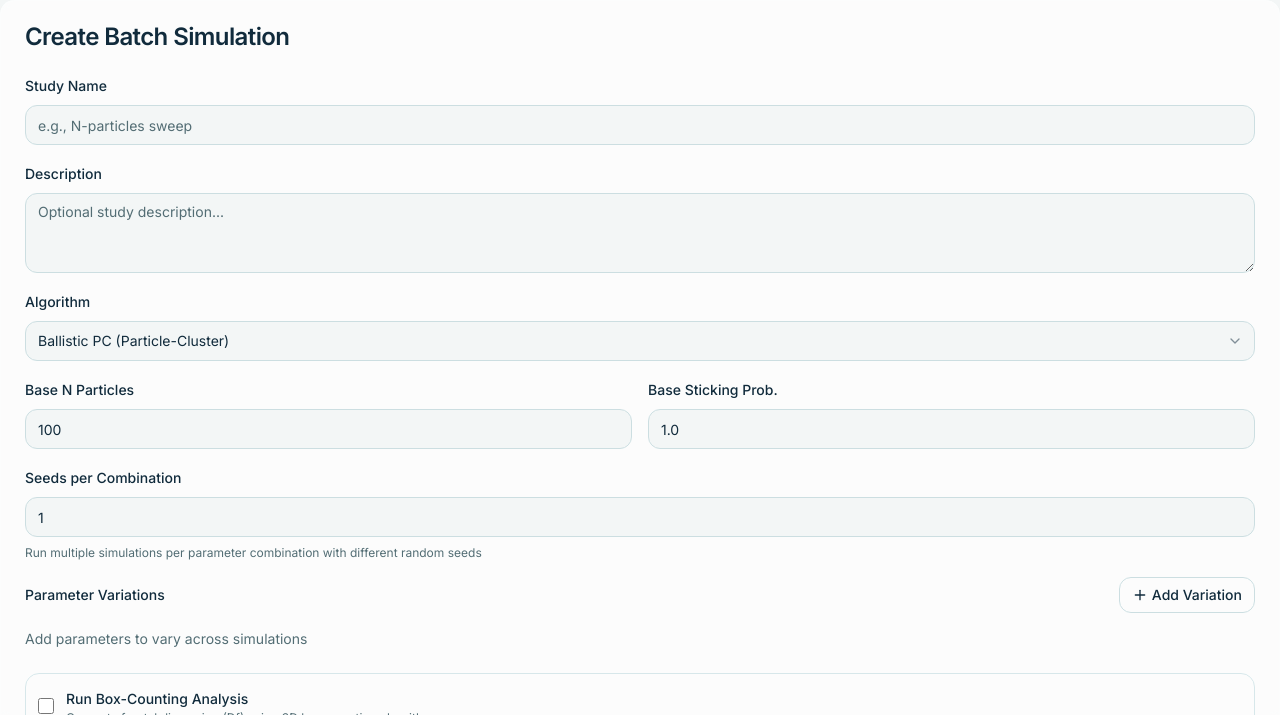
Test: R10.6 — what the new algorithm really rejects, not what the dropdown omits › still drops it for an algorithm that consumes no sintering at all
Select "Ballistic PC (Particle-Cluster)" in the dropdown: [640, 341] box [25,321,1255,361]
Click the button "Add Variation": [1187, 595] box [1119,577,1255,613]
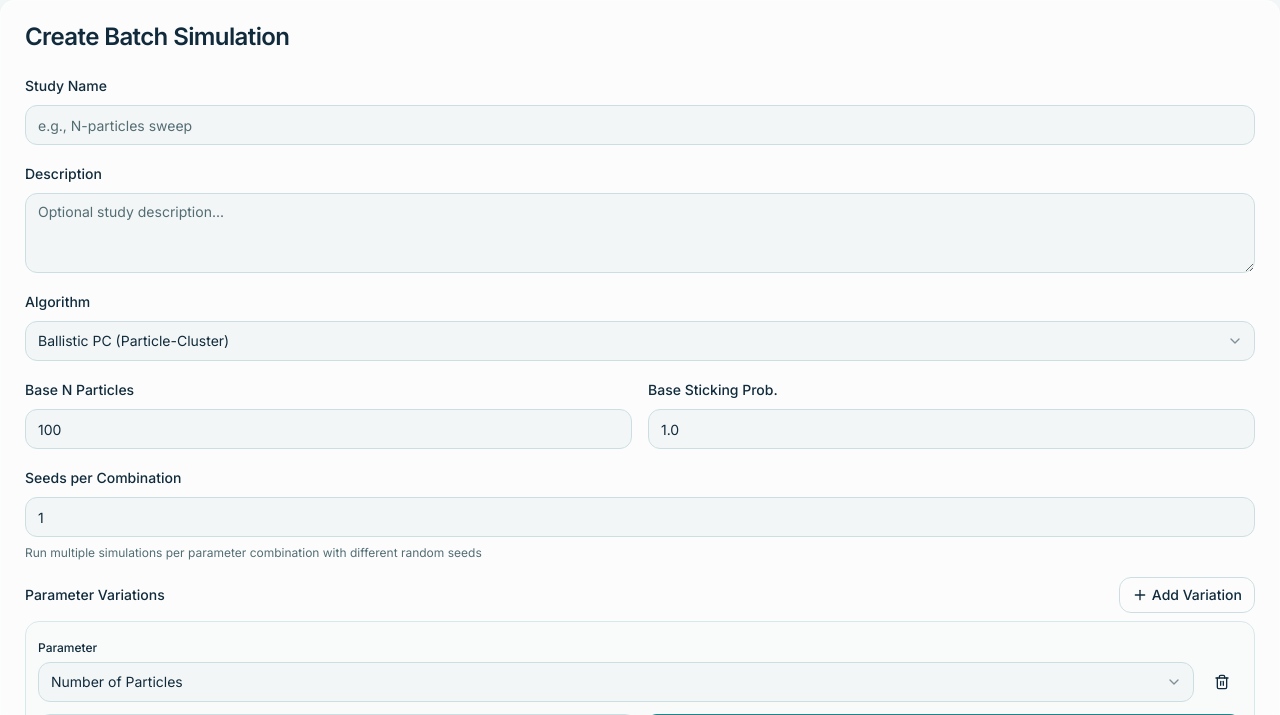
Select "Sintering coefficient distribution" in the dropdown below "Parameter Variations": [616, 682] box [38,662,1194,702]
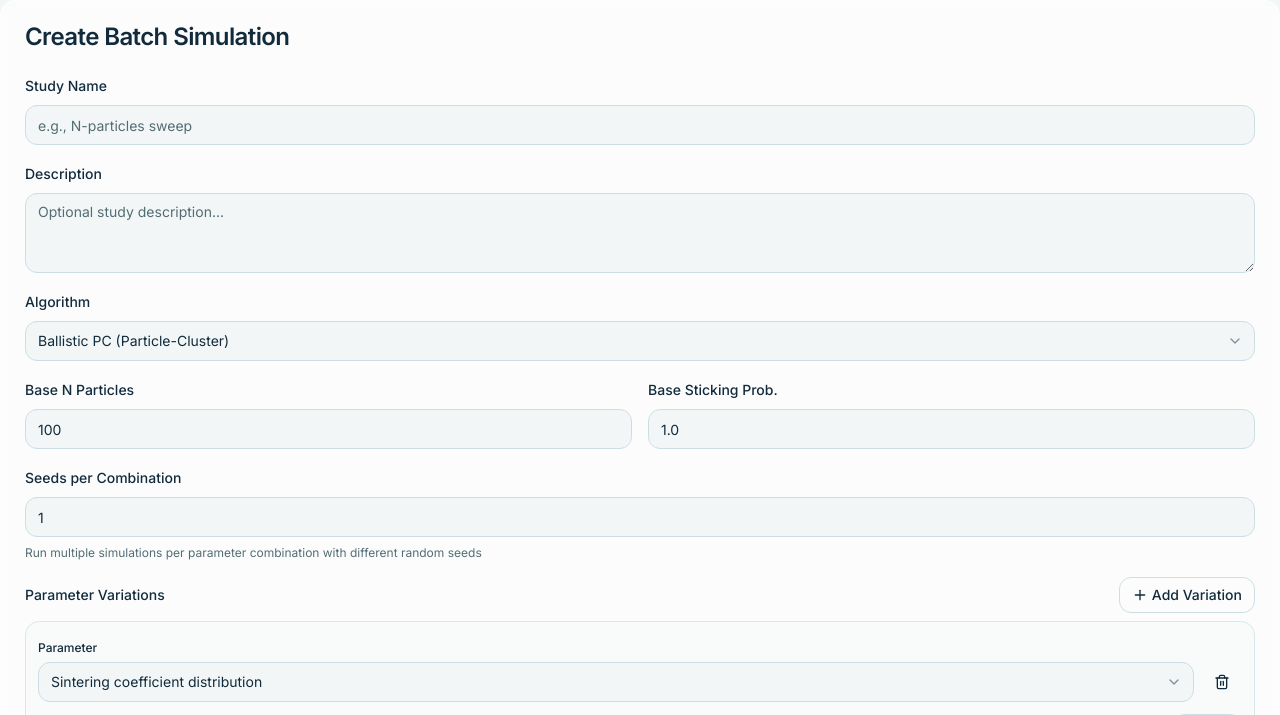
Select "Generalized CCA (Tomchuk)" in the 1st dropdown: [640, 341] box [25,321,1255,361]
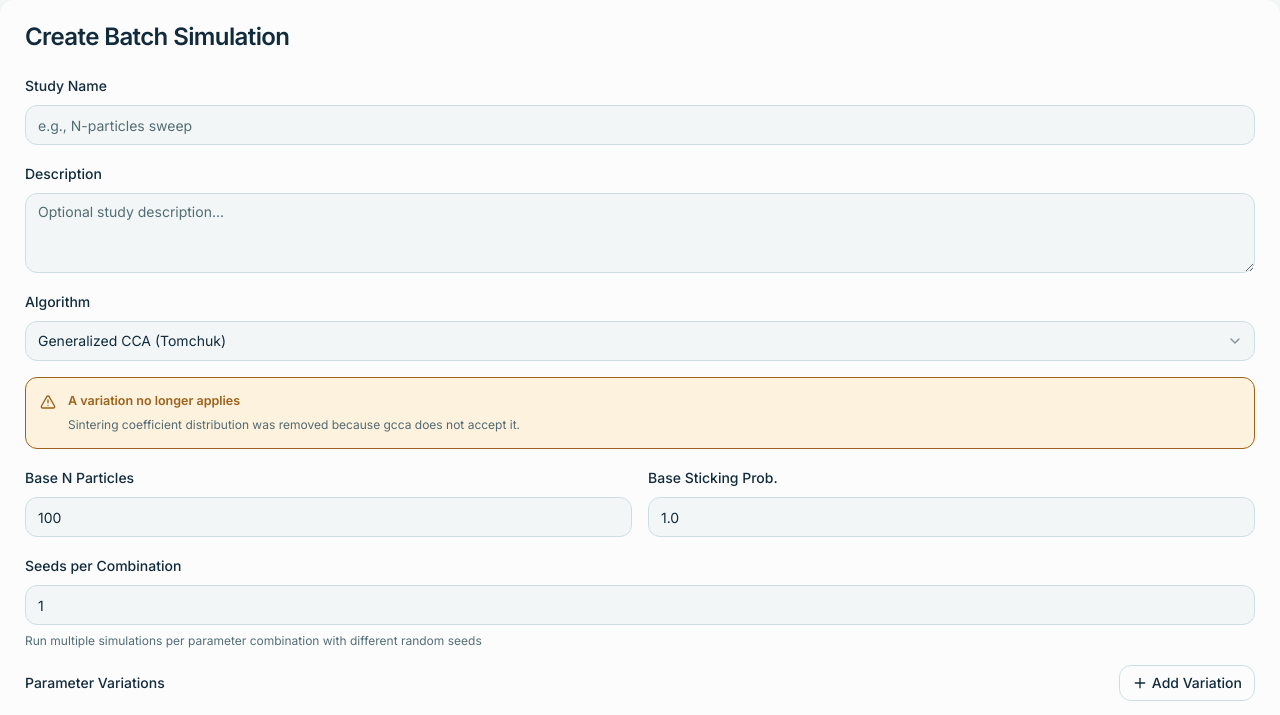
Expected: the text "Sintering coefficient distribution was removed because gcca" is shown, [68,417,520,432]
